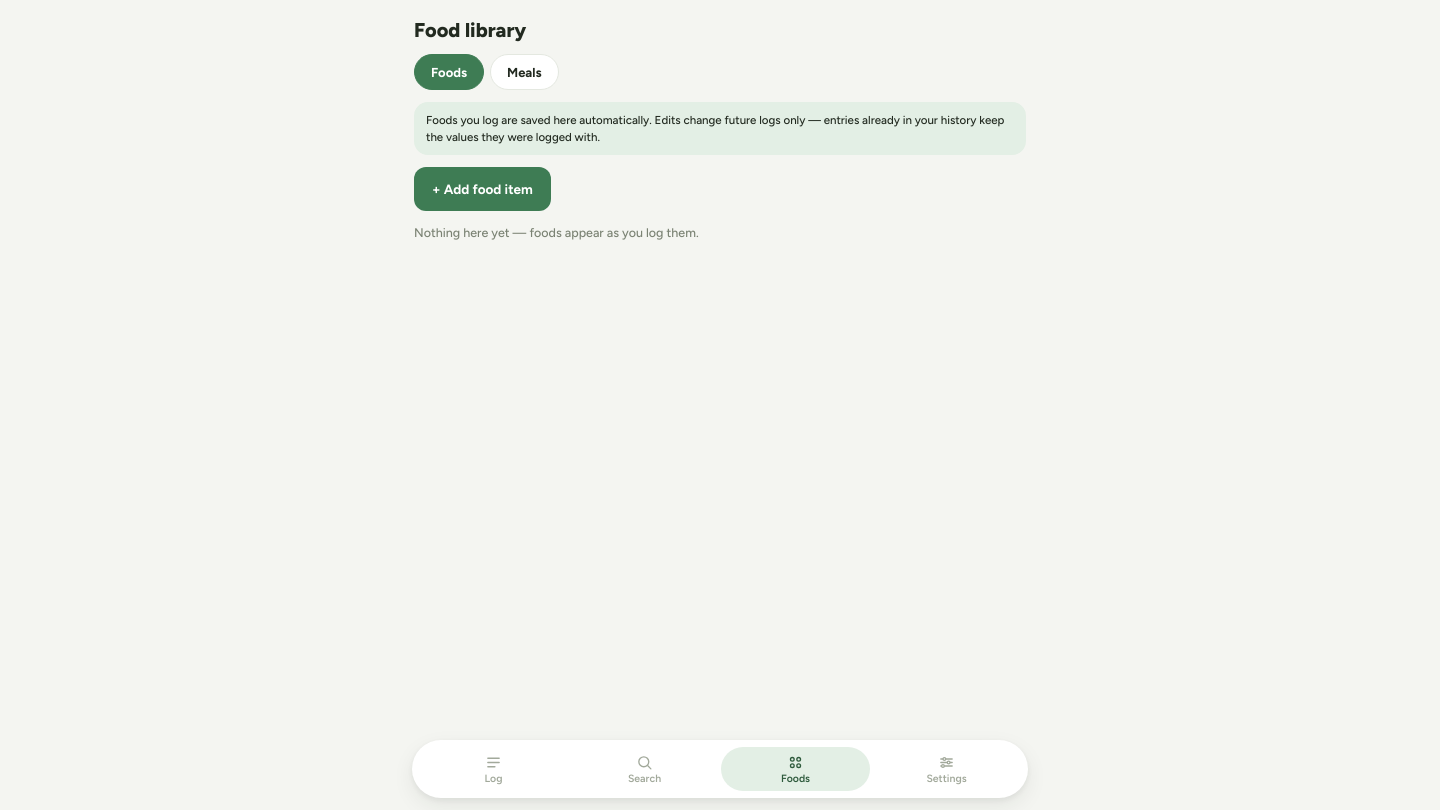
Test: Food library screen › creates a food item directly, available without ever logging it
Step 1. Click the button "+ Add food item" → (482, 189), box [414,167,551,211]
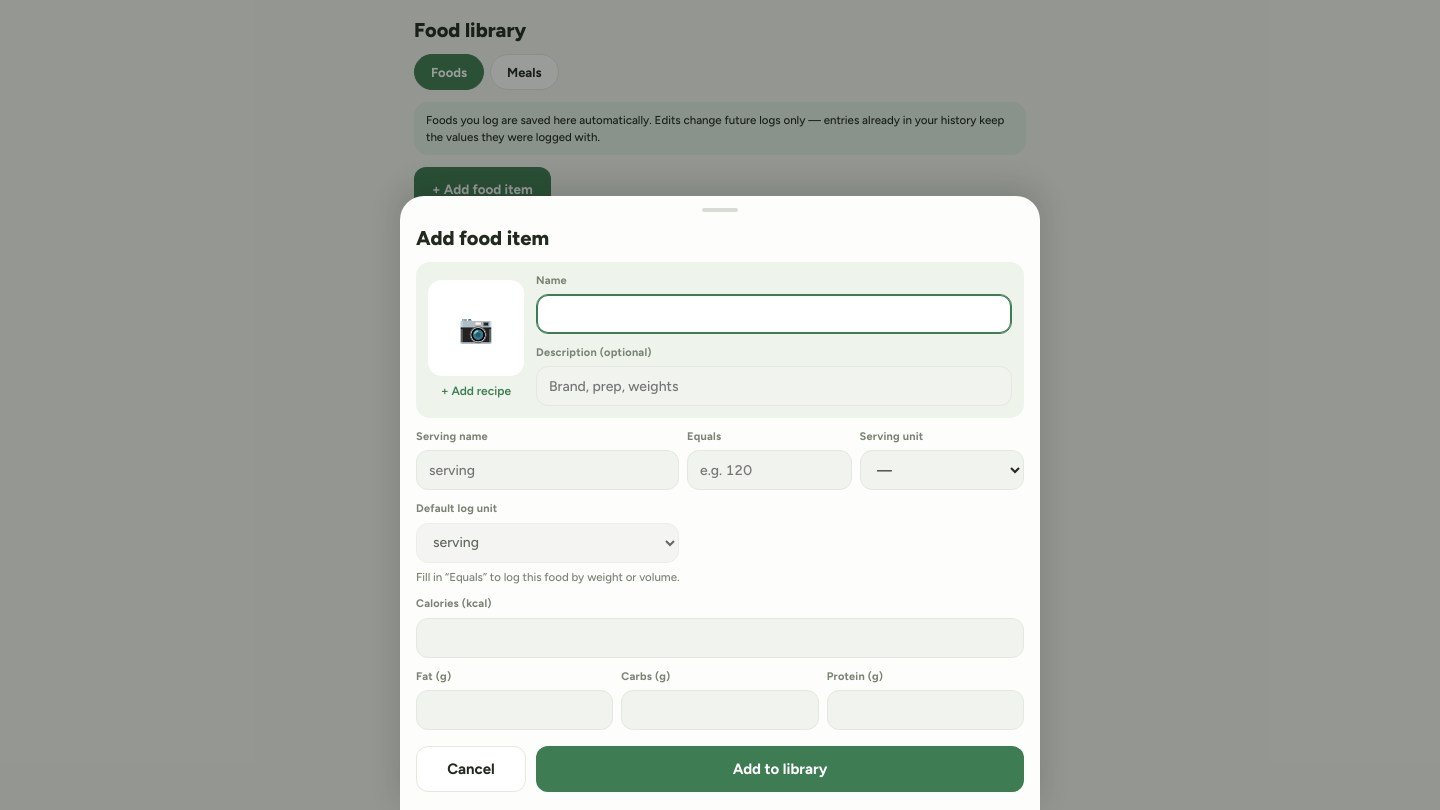
Step 2. Type "Protein shake" into the field labelled "Name" → (774, 314), box [536,294,1012,334]
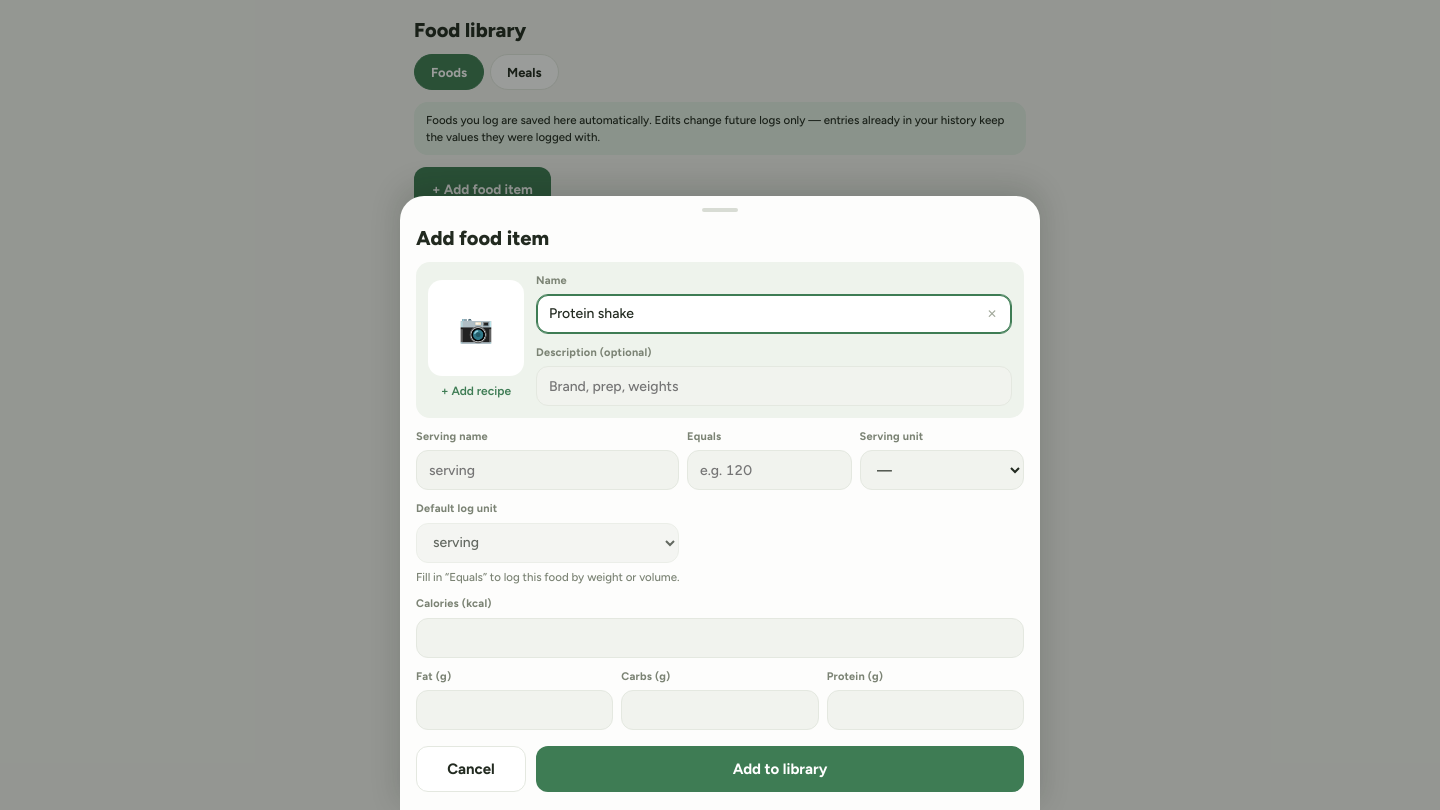
Step 3. Type "180" into the field labelled "Calories (kcal)" → (720, 638), box [416,618,1024,658]
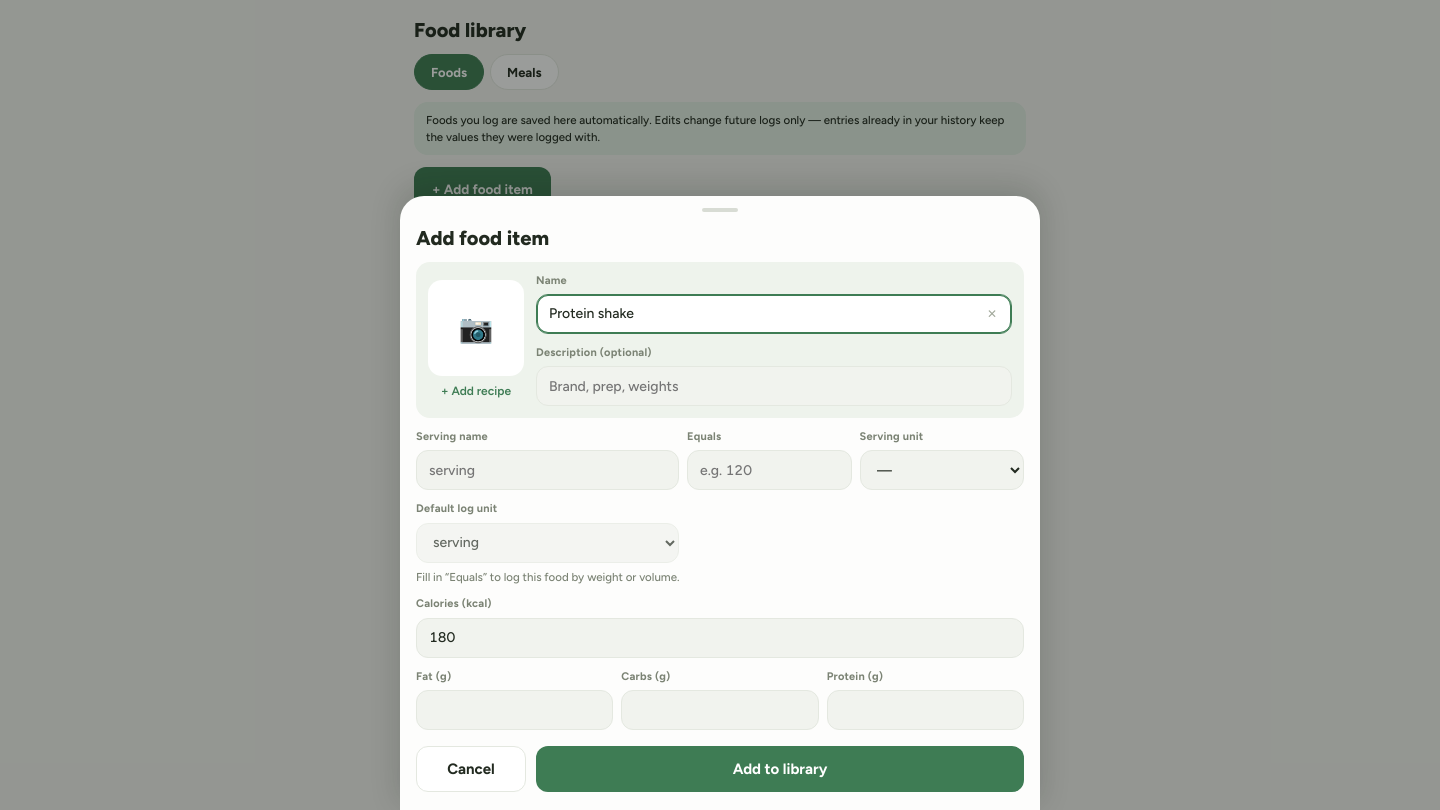
Step 4. Click the button "Add to library" → (780, 769), box [536,746,1024,792]
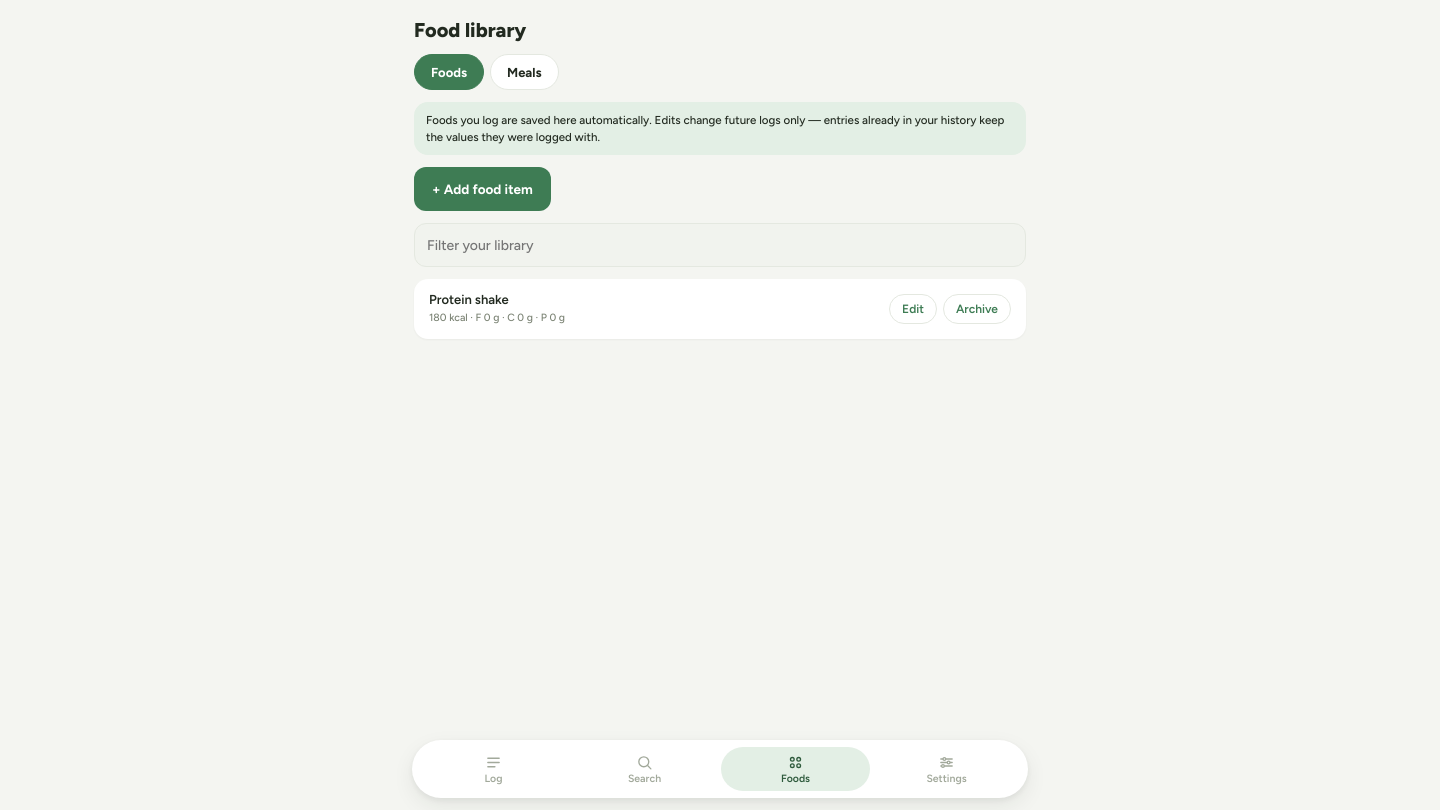
expect the text "Protein shake" is shown: met, box [429,292,509,309]
expect the text "180 kcal · F 0 g · C 0 g · P 0 g" is shown: met, box [429,311,565,326]
